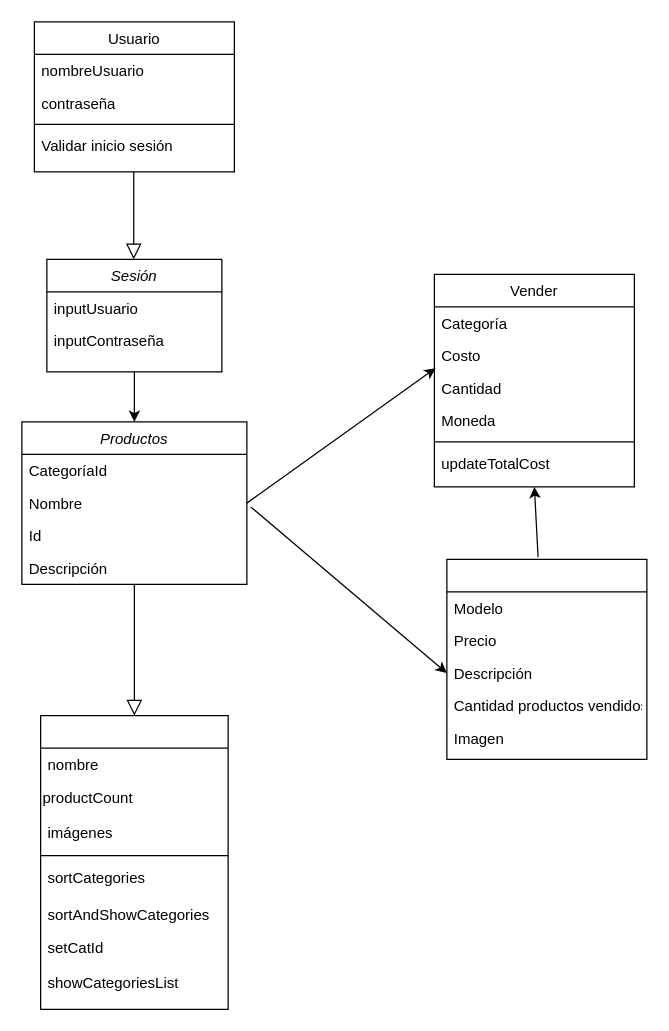
Image size: 669x1031. Some labels were removed from this diagram. Here are the shapes that lost their labels. From the top down, the box of each, then its label:
(446, 558, 647, 759): Autos
(39, 714, 228, 1009): Categorías
